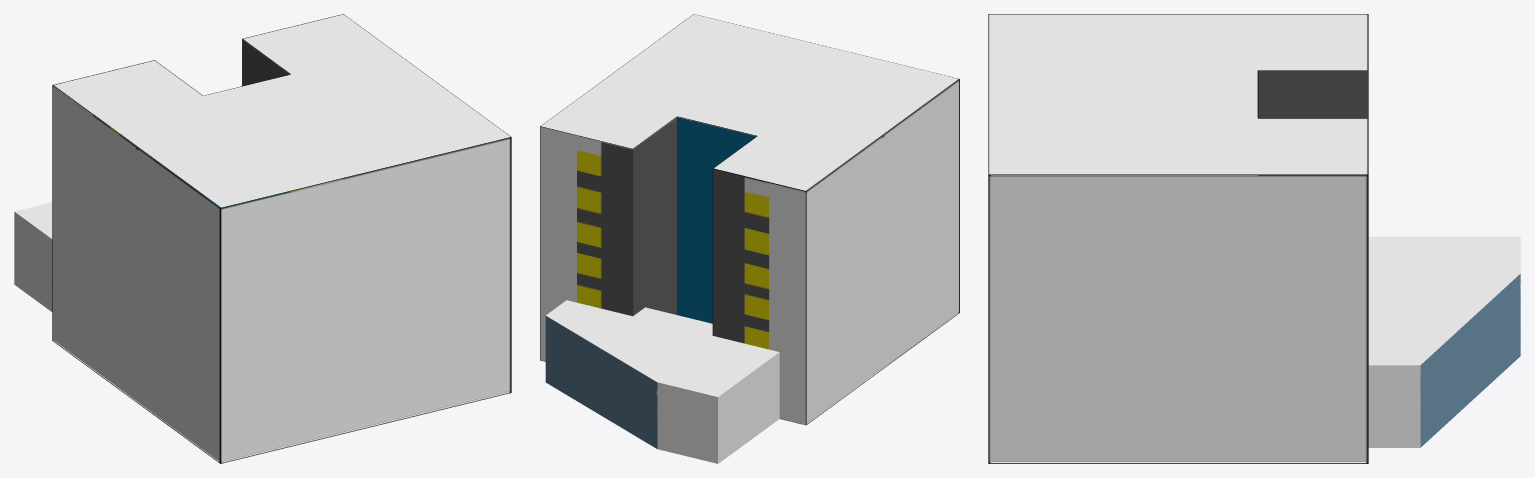
3 renders of one model, left to right at view 1: azimuth 30°, elevation 25°; view 2: azimuth 150°, elevation 25°; view 3: azimuth 270°, elevation 25°, orthographic. The views are drawn at different scales.
Visible parts, largest first — view 1: Cube.001, Cube; view 2: Cube.001, Cube; view 3: Cube.001, Cube.
Part boxes in pixels (x1,y1,x2,y2): Cube.001: (52, 14, 511, 463); Cube: (14, 202, 52, 311); Cube.001: (540, 14, 959, 425); Cube: (545, 300, 779, 463); Cube.001: (988, 14, 1368, 463); Cube: (1368, 236, 1520, 447).
Size of the model in its own units: 10000 by 8400 by 14000.
Materials: 2 (2 with a texture image).
